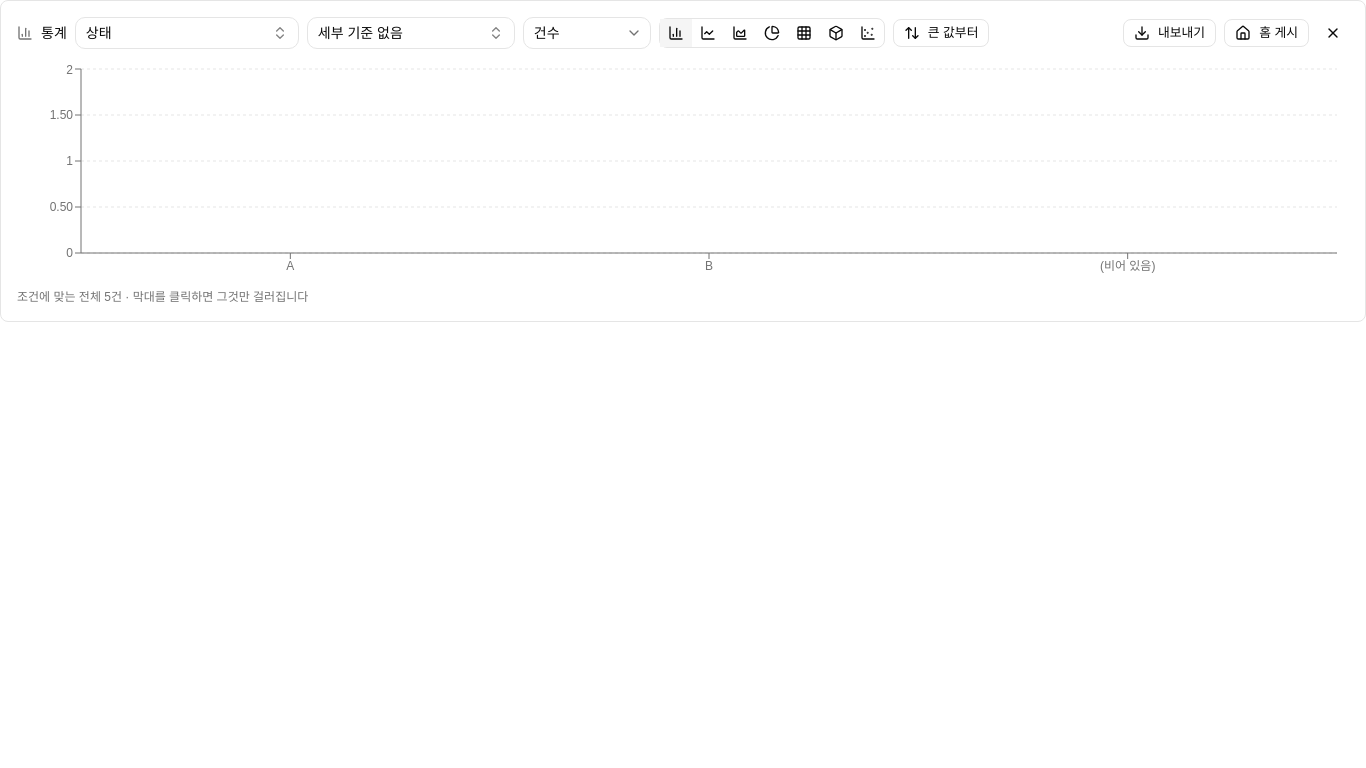
Test: 개별 순위 › 이어진 것 너머의 기준은 제목 아래로 서서 같은 이름이어도 갈린다
Check: the text "조건에 맞는 전체 5건 · 막대를 클릭하면 그것만 걸러집니다" is shown, box [17,290,308,304]
What coordinates should you click on to do the following:
click the dropdown named "기준"
I would click on:
 (187, 33)
Its box is [75,17,299,49].
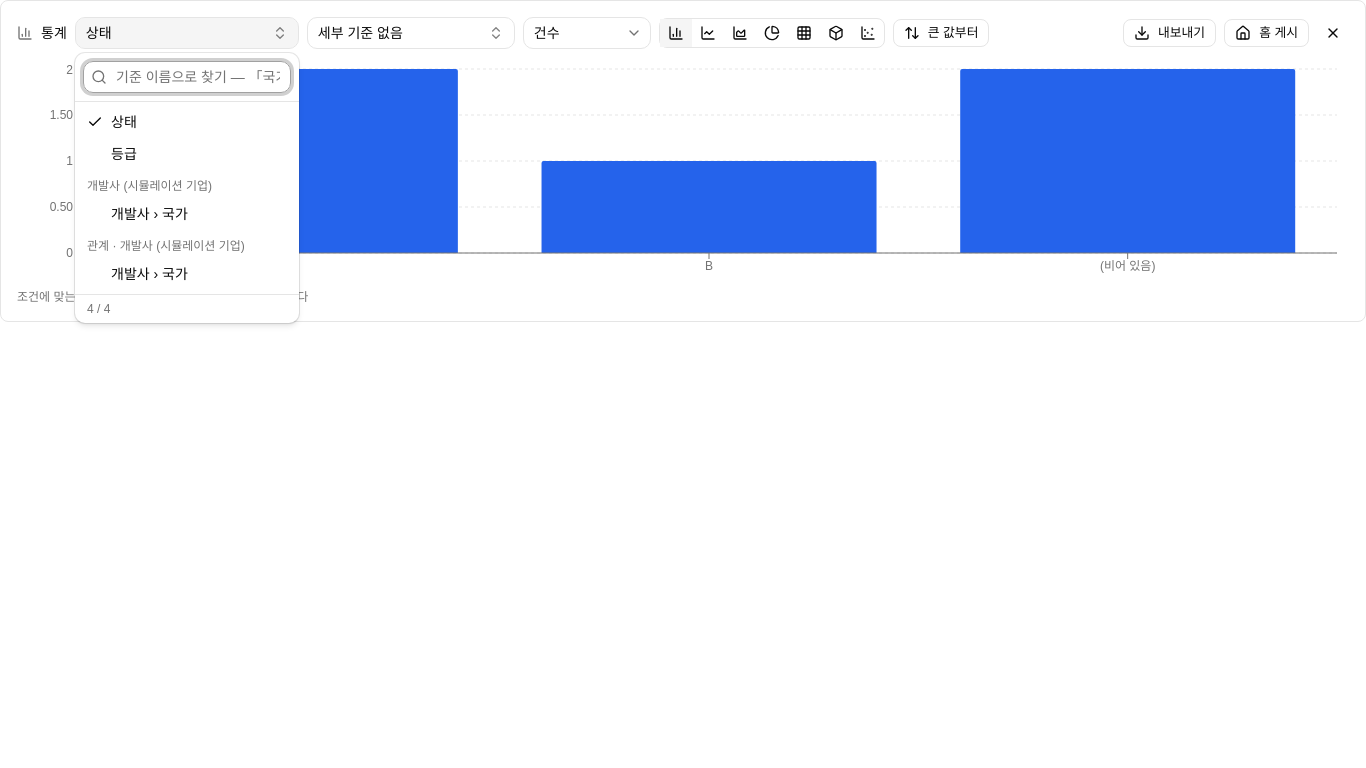
Check: the text "개발사 (시뮬레이션 기업)" is shown, box [87,179,212,193]
Check: the text "관계 · 개발사 (시뮬레이션 기업)" is shown, box [87,239,245,253]
Check: the number of buttons "개발사 › 국가" is 2, box [79,198,295,230]; [79,258,295,290]
